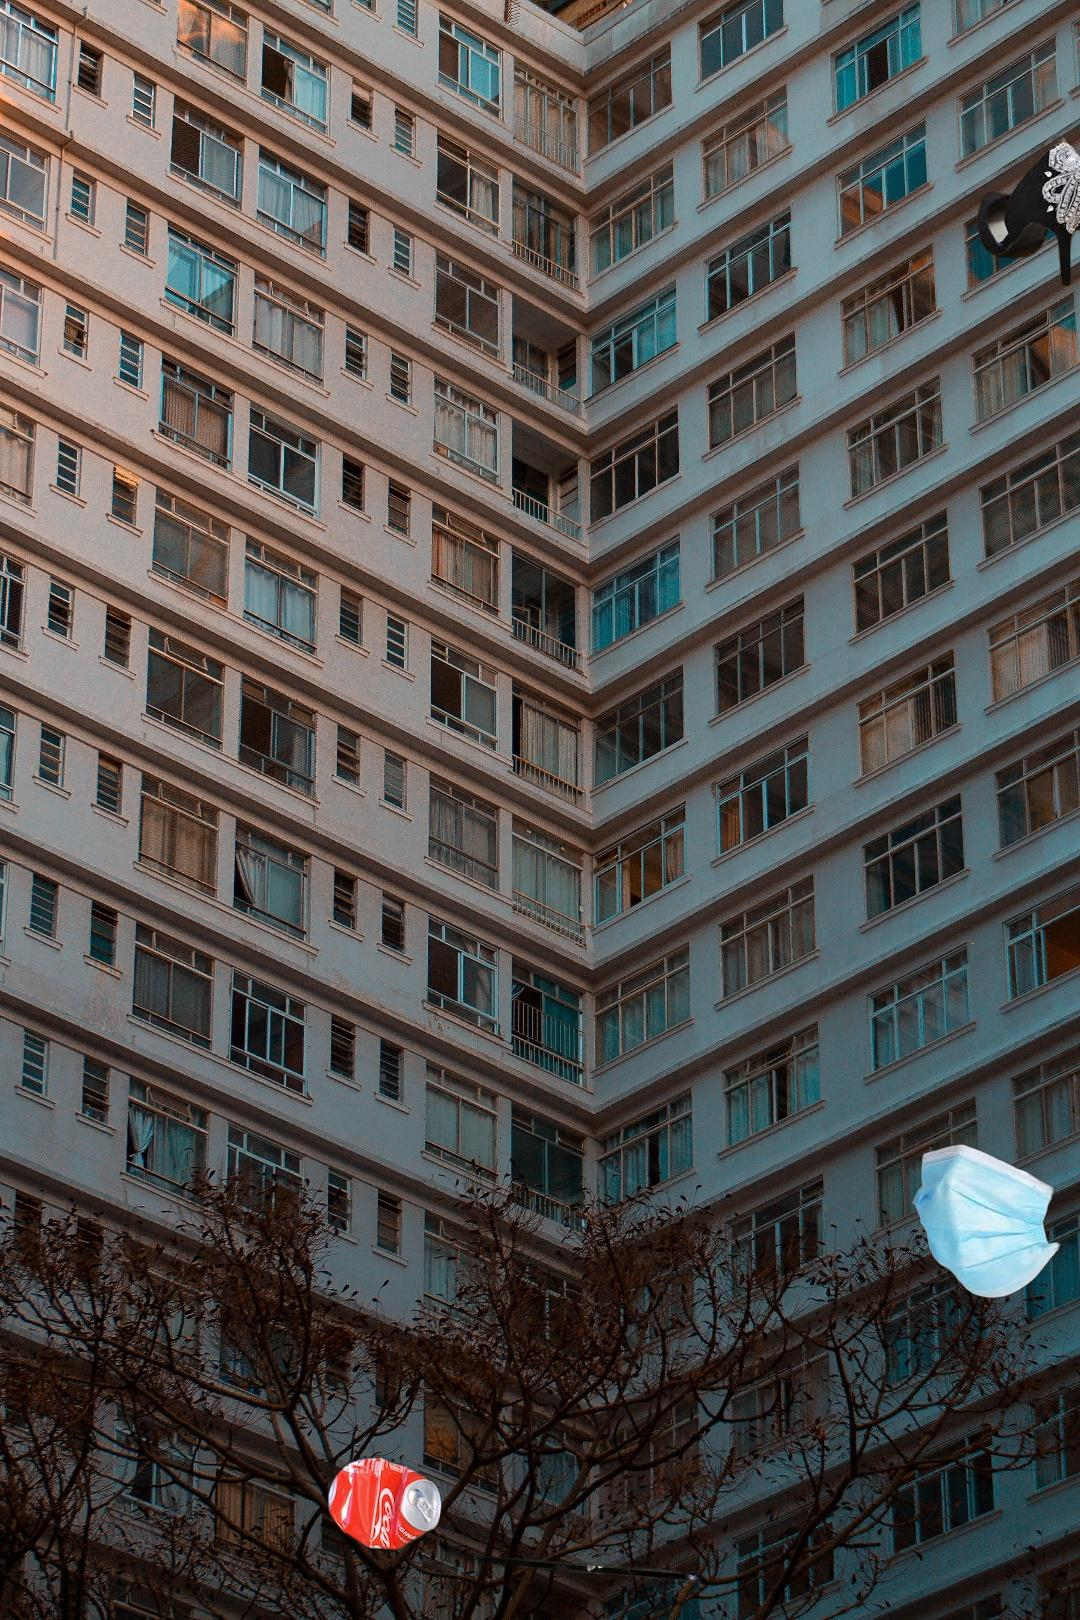metal-cans: (189, 1420, 702, 1620)
shoes: (975, 129, 1080, 289)
trash: (909, 1141, 1080, 1301)
trashbox-cardboard: (972, 536, 1080, 944)
